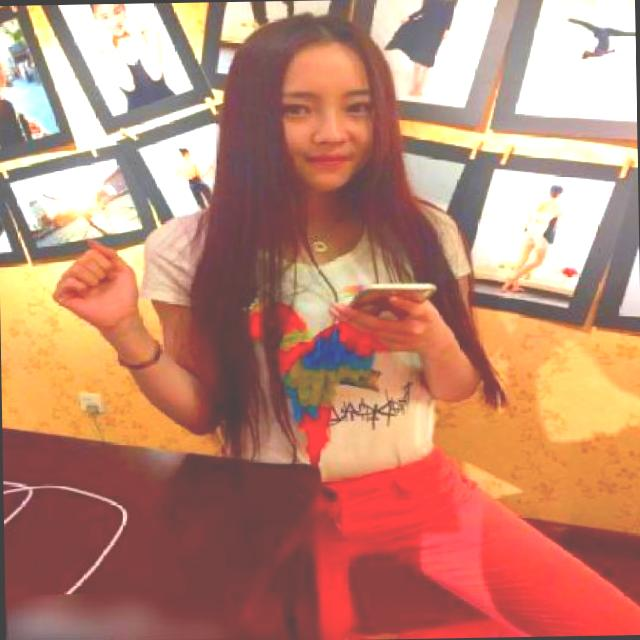Person: (184, 0, 544, 640)
